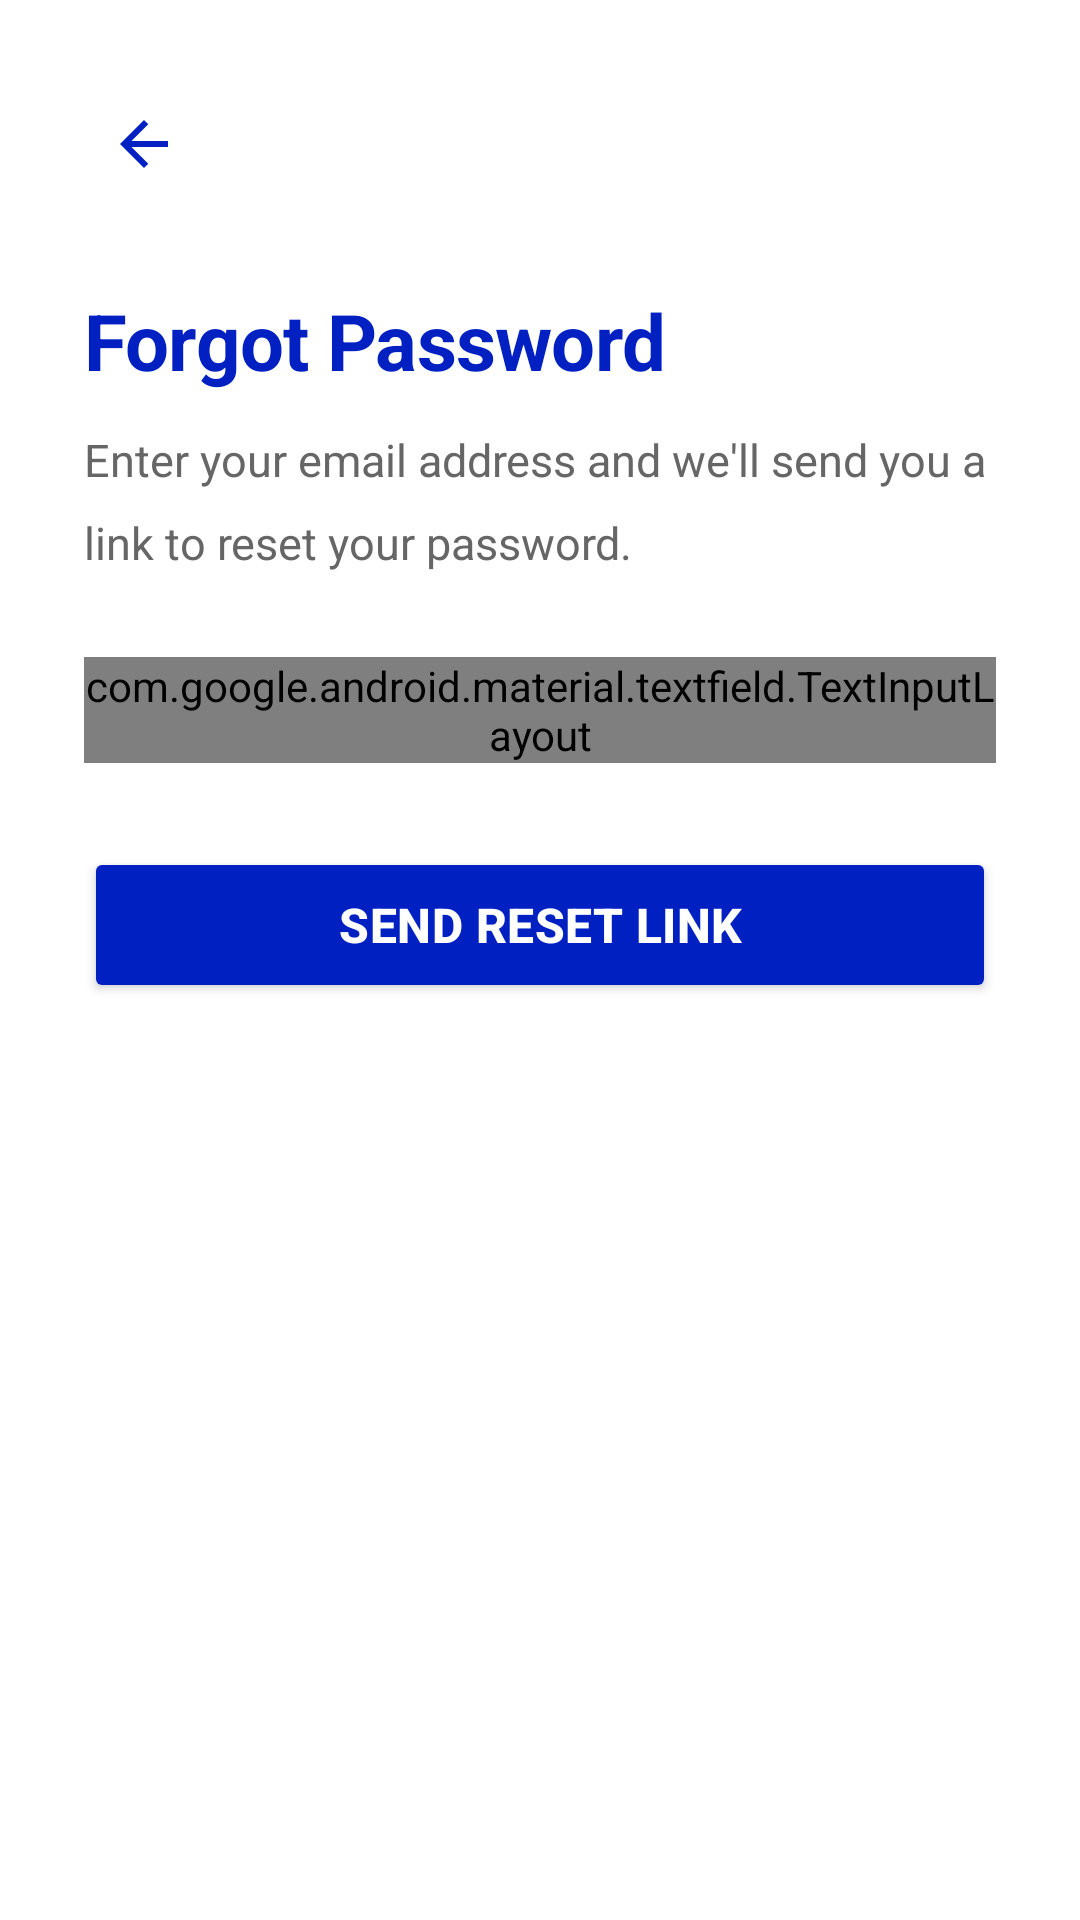

Screen size 1080px×1920px. Icon name, then its center in pixels as point (x, y):
Back: point (144, 144)
